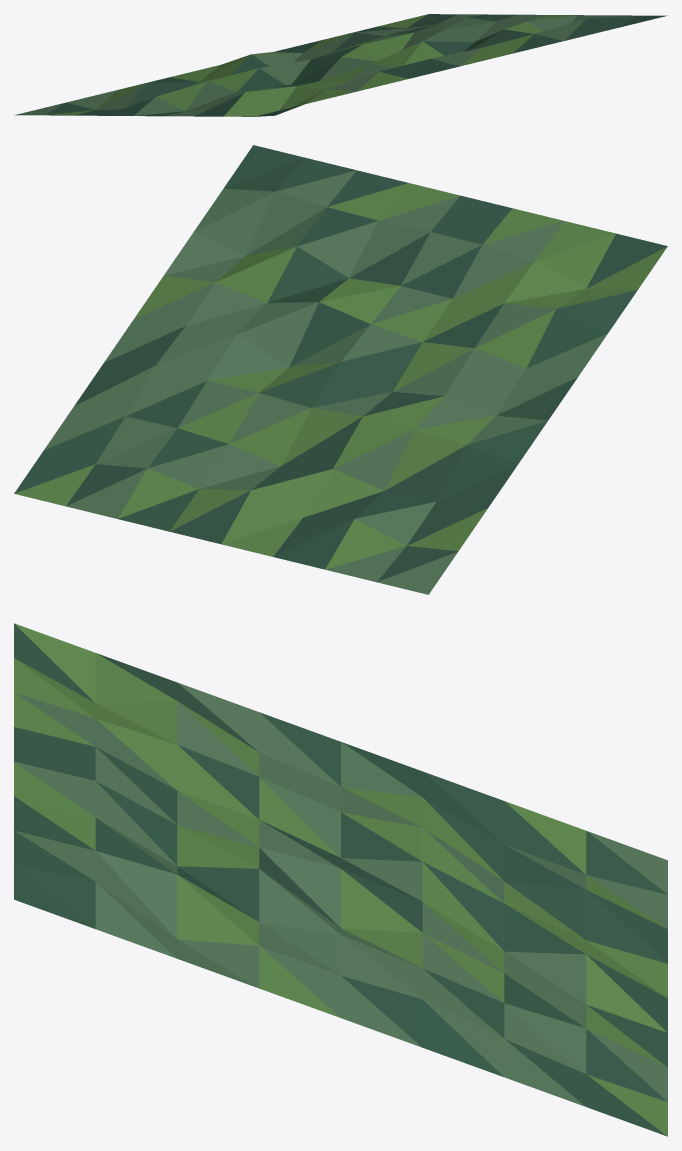
Rendered from landscape-slope.lod0.glb.
The picture shows the model from 3 angles, top to bottom: view 1: azimuth 30°, elevation 25°; view 2: azimuth 150°, elevation 25°; view 3: azimuth 270°, elevation 25°; orthographic projection. The views are drawn at different scales.
Parts seen in each view (by area): view 1: landscape-slope__body; view 2: landscape-slope__body; view 3: landscape-slope__body.
Boxes of the visible parts, box(x1,y1,x2,y2) form: landscape-slope__body: box(14, 14, 667, 116); landscape-slope__body: box(14, 145, 667, 594); landscape-slope__body: box(14, 623, 667, 1136).
Bounding box in the file's own units: 8 × 3.2 × 8.
